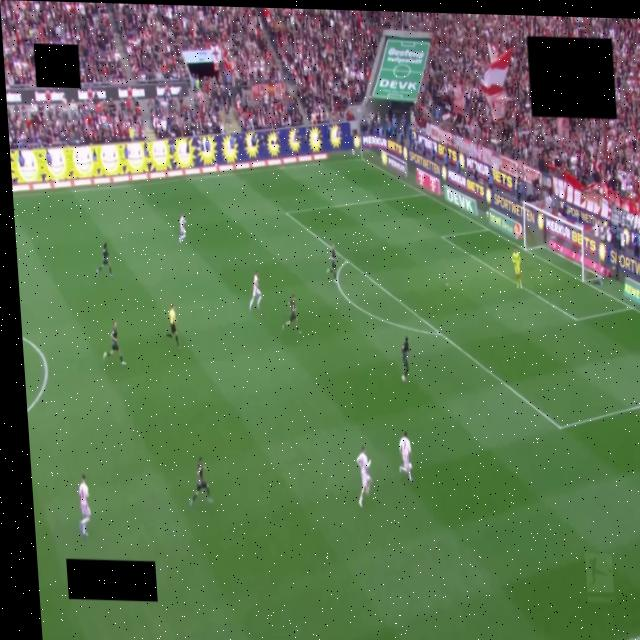player: (190, 457, 212, 506), (103, 321, 126, 365), (357, 446, 371, 506), (282, 294, 301, 333), (79, 475, 90, 537), (399, 432, 412, 482), (399, 336, 412, 382), (96, 243, 112, 278), (249, 271, 261, 310), (512, 248, 522, 289), (327, 245, 337, 281), (179, 215, 186, 243)
referee: (165, 304, 180, 348)
